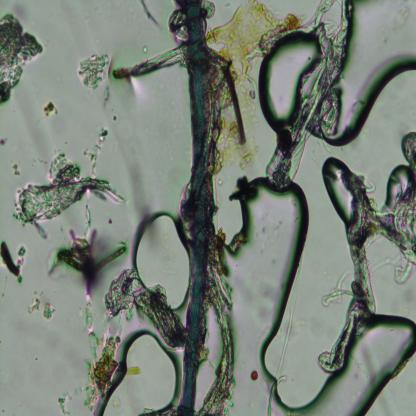Air bubble: (293, 304, 416, 416), (134, 198, 190, 312)
Background material: (11, 159, 126, 228), (0, 12, 45, 105), (50, 229, 128, 281), (86, 334, 119, 411), (79, 126, 111, 173), (76, 293, 102, 341), (77, 52, 109, 90), (0, 241, 27, 285), (54, 386, 84, 416), (136, 0, 158, 36), (28, 298, 57, 319), (42, 100, 58, 118), (0, 132, 8, 147), (10, 160, 18, 173), (250, 370, 258, 381), (114, 112, 119, 122)
Cellulose filter fibre: (229, 176, 310, 414), (316, 202, 416, 374), (265, 0, 353, 190), (321, 0, 416, 148), (94, 325, 180, 414), (108, 268, 190, 352), (260, 26, 322, 131), (204, 235, 234, 415), (113, 42, 189, 83), (318, 155, 356, 220)
Microfibre: (174, 0, 212, 416)
